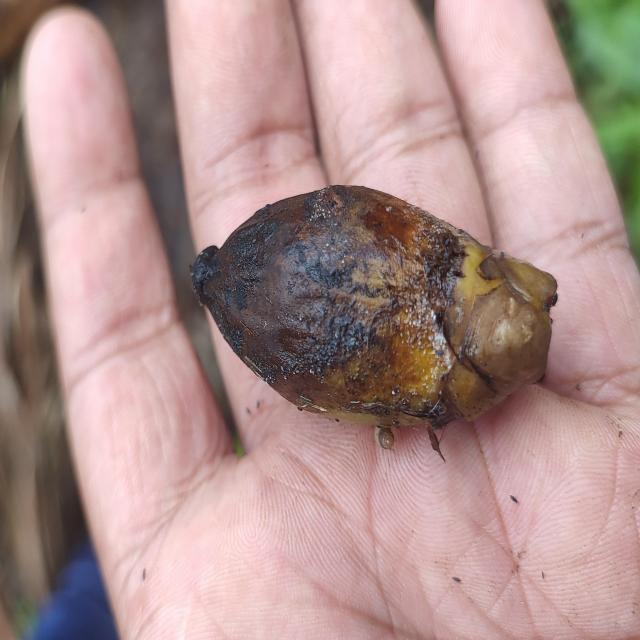damaged: (191, 186, 557, 452)
